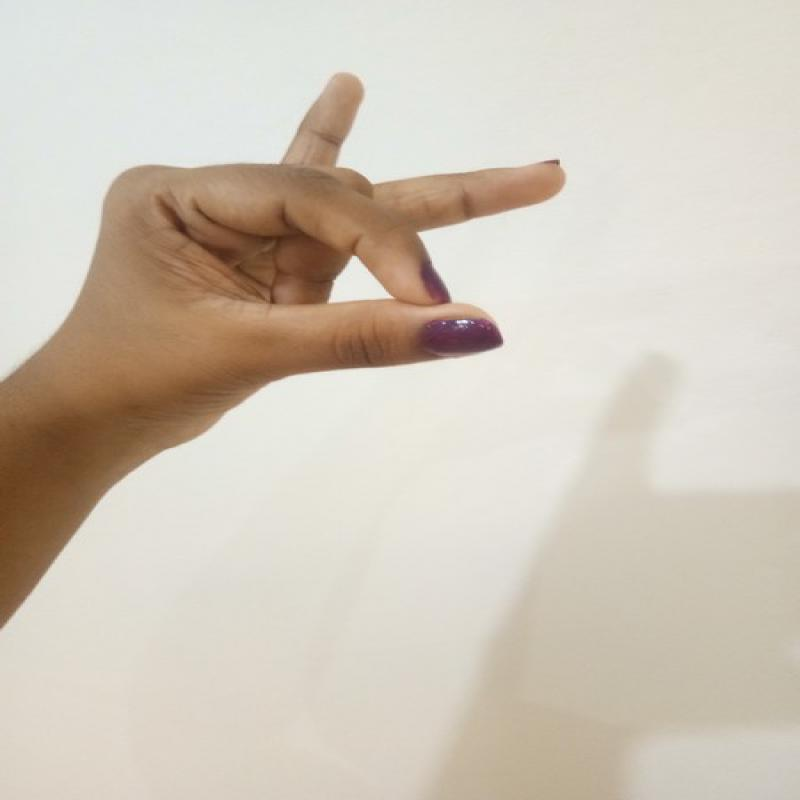Katakam: (39, 60, 585, 467)
